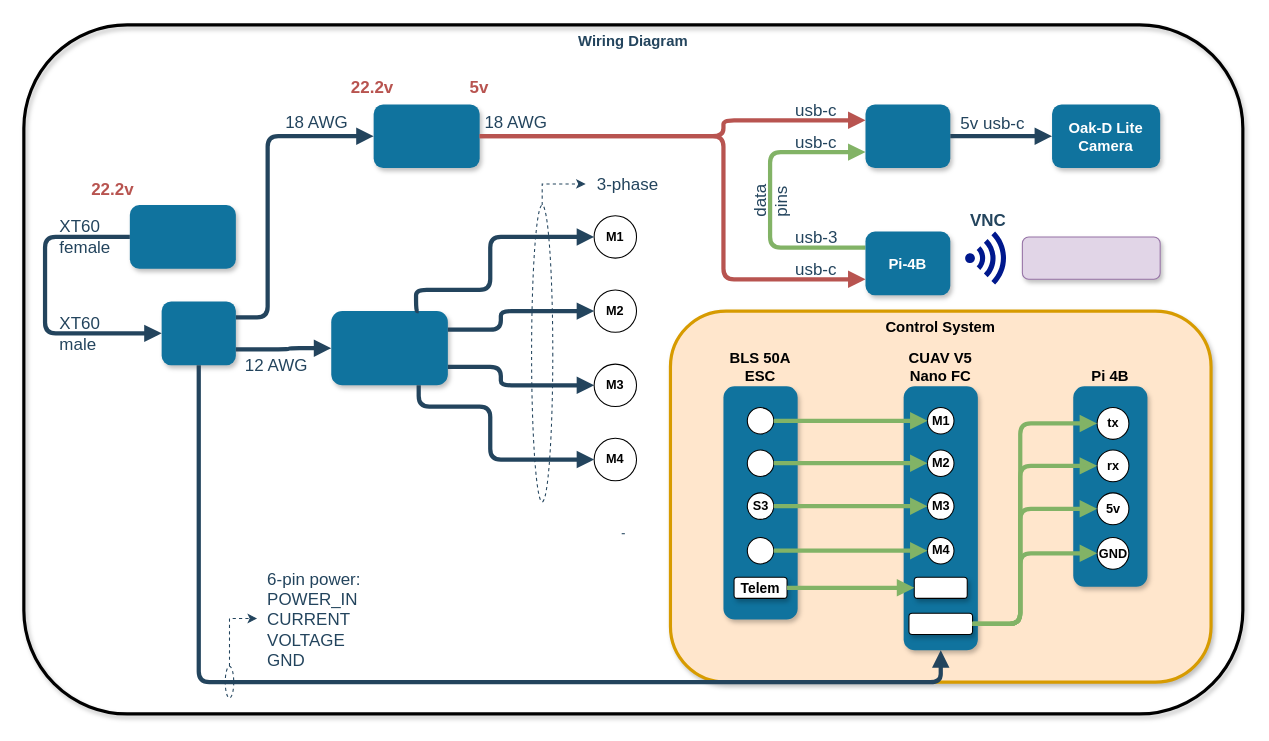
This 1269x741 diagram has some shape labels left out. The shapes that lost their labels are listed below. From the top down, each one's centre as x and y in pixels, then its label:
the point at 427,137: DC-DC Buck Converter
the point at 908,137: Y-adapter
the point at 183,238: 6s 3.7Ah 60C battery
the point at 1092,259: Laptop running Mission Planner
the point at 199,334: BEC
the point at 390,349: BLS 50A 4in1 ESC
the point at 760,420: S1
the point at 760,462: S2
the point at 760,550: S4
the point at 941,589: UART4
the point at 941,625: TELEM2
